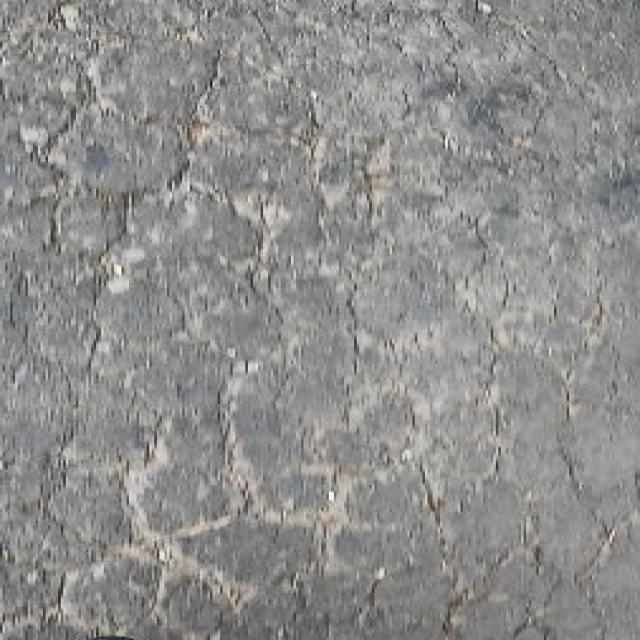PIEL DE COCODRILO: (2, 0, 621, 637)
